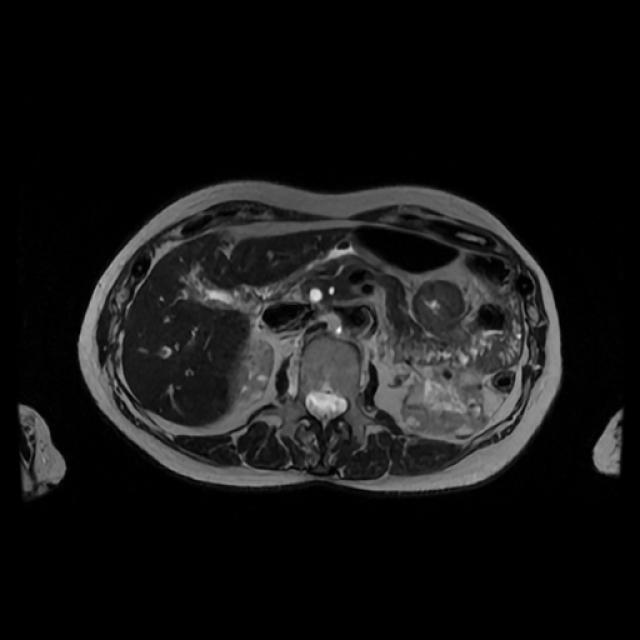sag: (227, 336, 276, 410)
sol: (397, 362, 491, 440)
